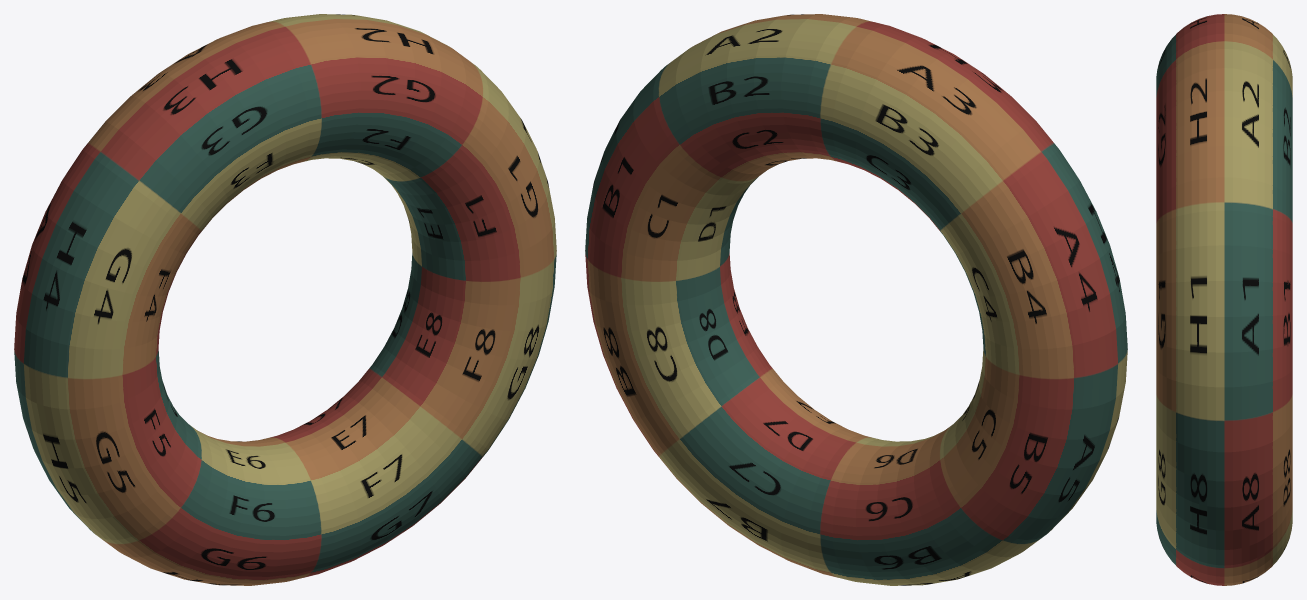
The model's file is texture_torus_R20_r20.glb.
The picture shows the model from 3 angles, left to right: view 1: azimuth 30°, elevation 25°; view 2: azimuth 150°, elevation 25°; view 3: azimuth 270°, elevation 25°; orthographic projection. The views are drawn at different scales.
Visible parts, largest first — view 1: world; view 2: world; view 3: world.
Part boxes in pixels (left/top/right/bottom): world: left=14, top=14, right=556, bottom=585; world: left=585, top=14, right=1127, bottom=585; world: left=1156, top=14, right=1292, bottom=585.
Bounding box in the file's own units: 30.67 × 30.61 × 7.32.
Materials: 1 (1 with a texture image).
